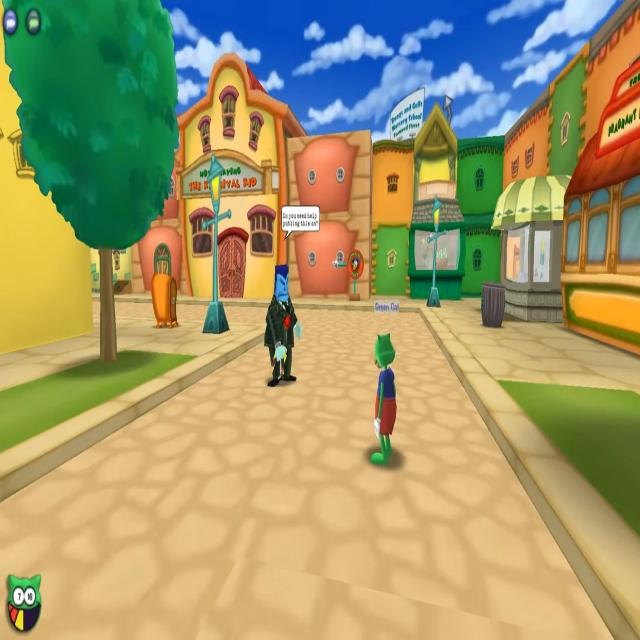shortchange: (262, 209, 320, 396)
